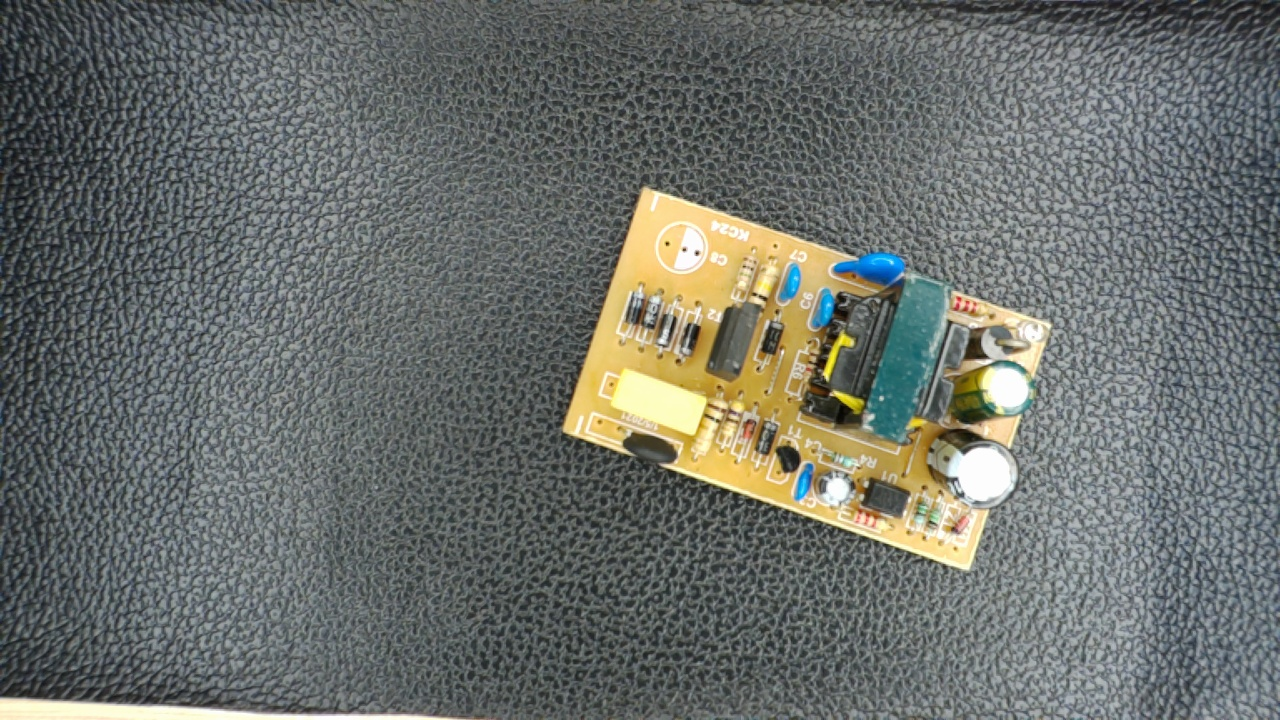fuse: (614, 425, 684, 468)
mov: (825, 245, 909, 287)
optocoupler: (855, 471, 914, 522)
